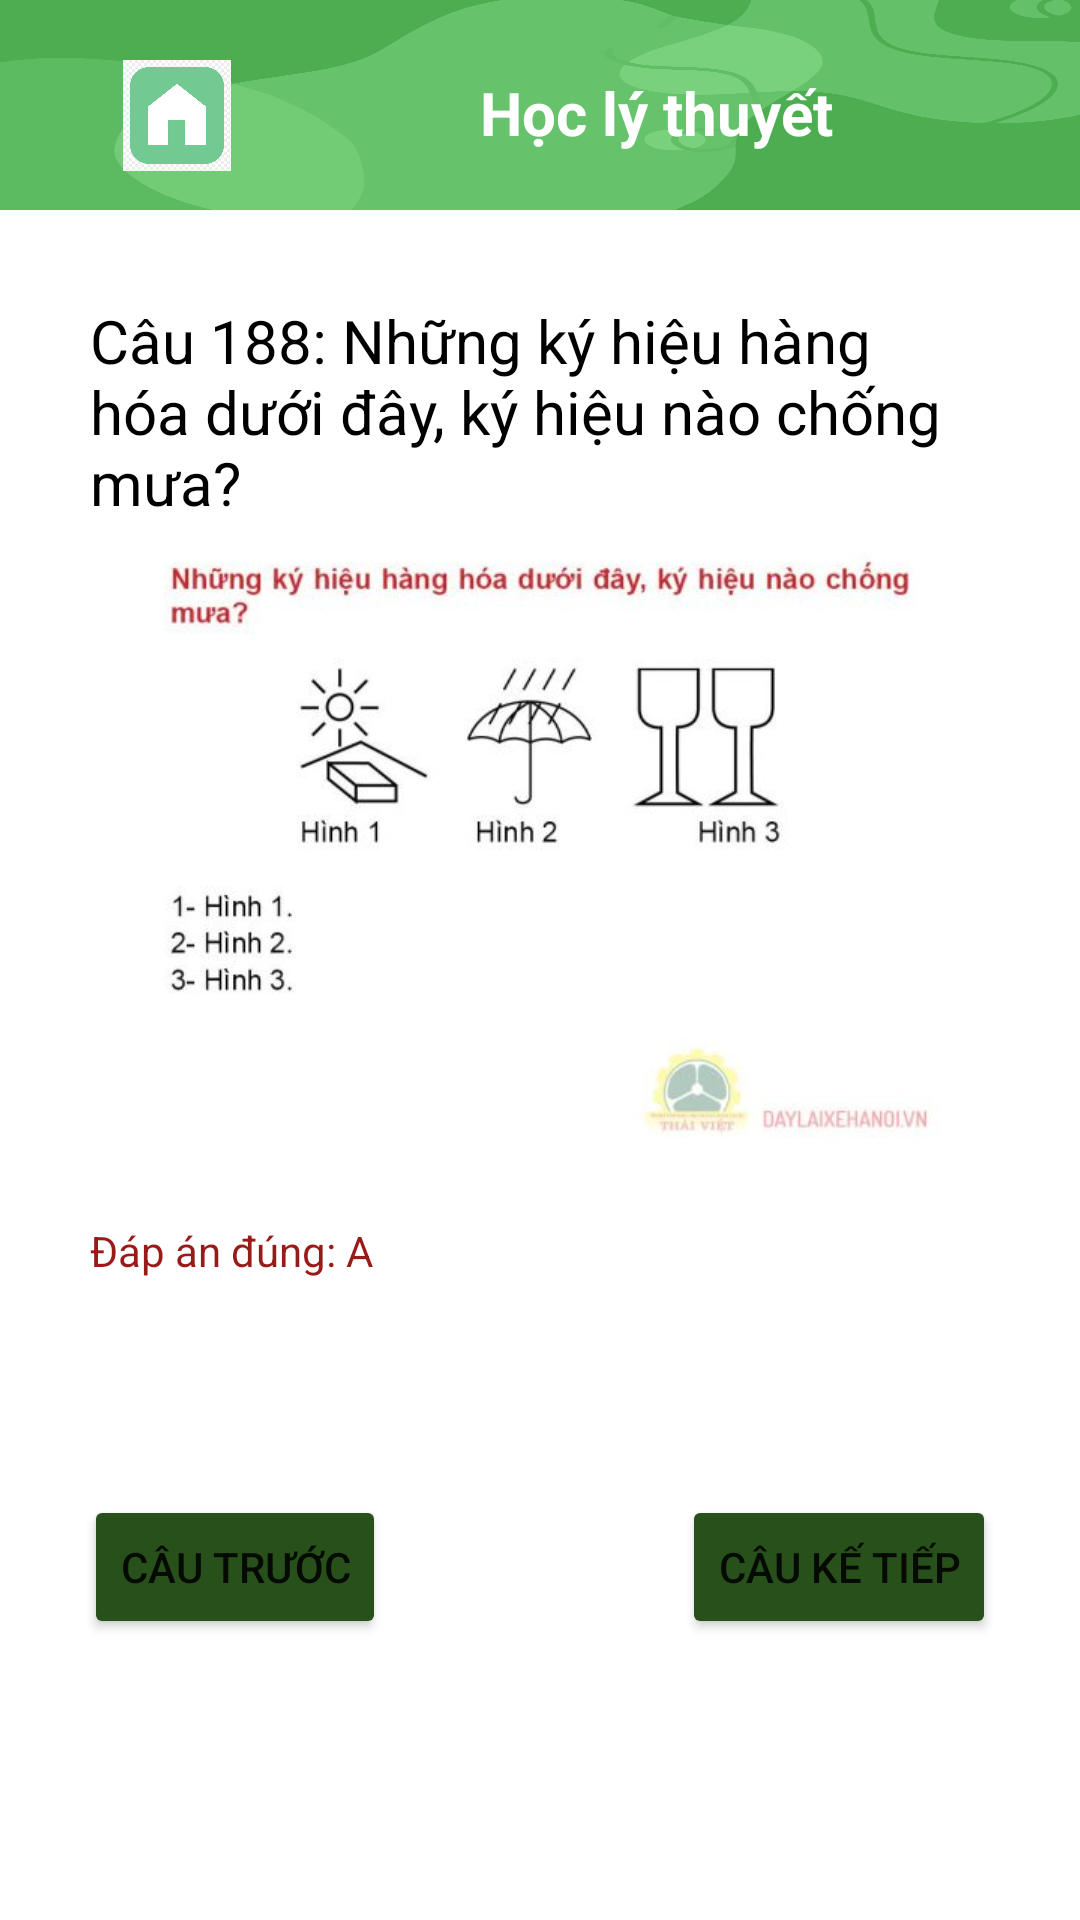

Point at icon controls on the screen. Image size 1080 × 1920, points as [x,y].
home: [190,130]
